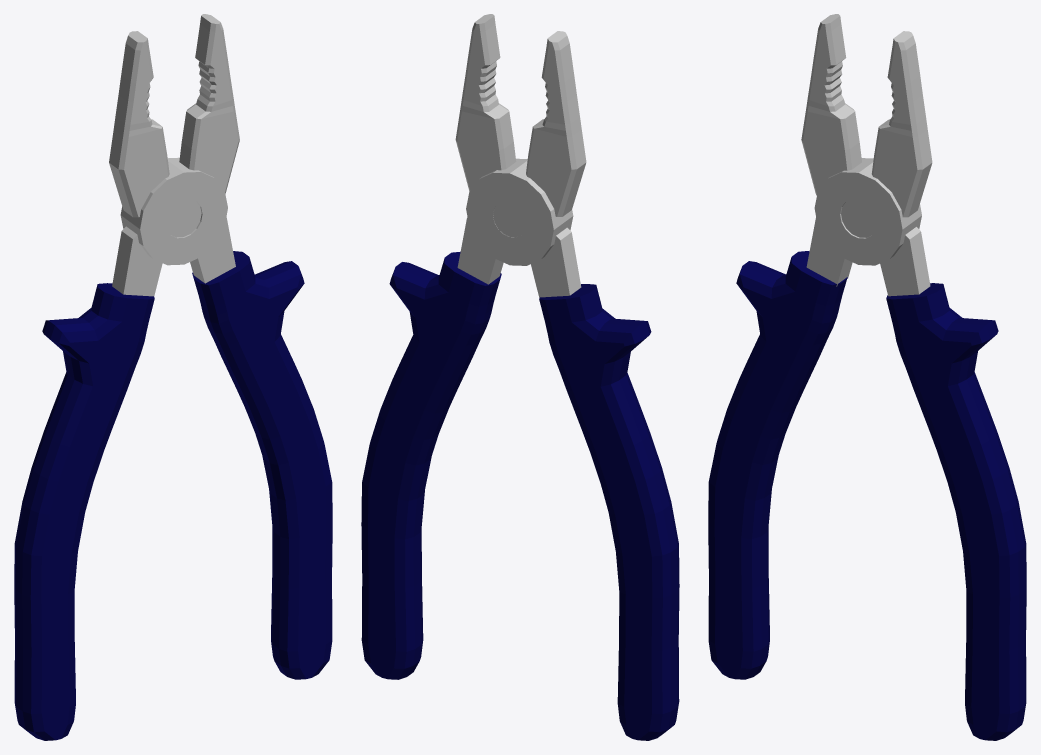
Rendered from Pliers.obj.
3 views of the same model, side by side, from view 1: azimuth 30°, elevation 25°; view 2: azimuth 150°, elevation 25°; view 3: azimuth 330°, elevation 25° (orthographic).
Visible parts, largest first — view 1: toolsFBXASC046pliers; view 2: toolsFBXASC046pliers; view 3: toolsFBXASC046pliers.
Boxes of the visible parts, x1,y1,x2,y2 form: toolsFBXASC046pliers: [14, 14, 332, 740]; toolsFBXASC046pliers: [361, 14, 679, 740]; toolsFBXASC046pliers: [708, 14, 1026, 740].
Size of the model in its own units: 26.19 by 54.65 by 3.03.
